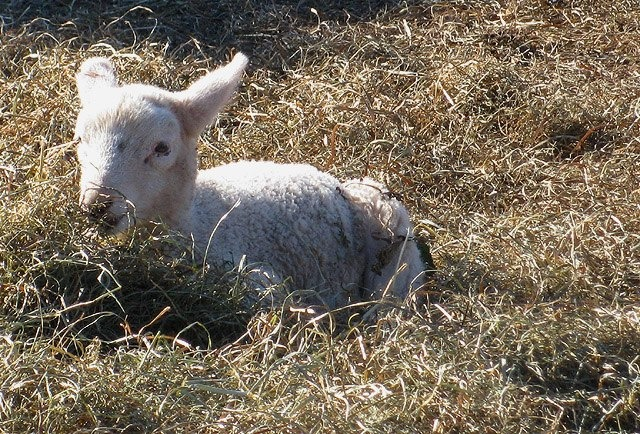resting: (74, 55, 427, 309)
